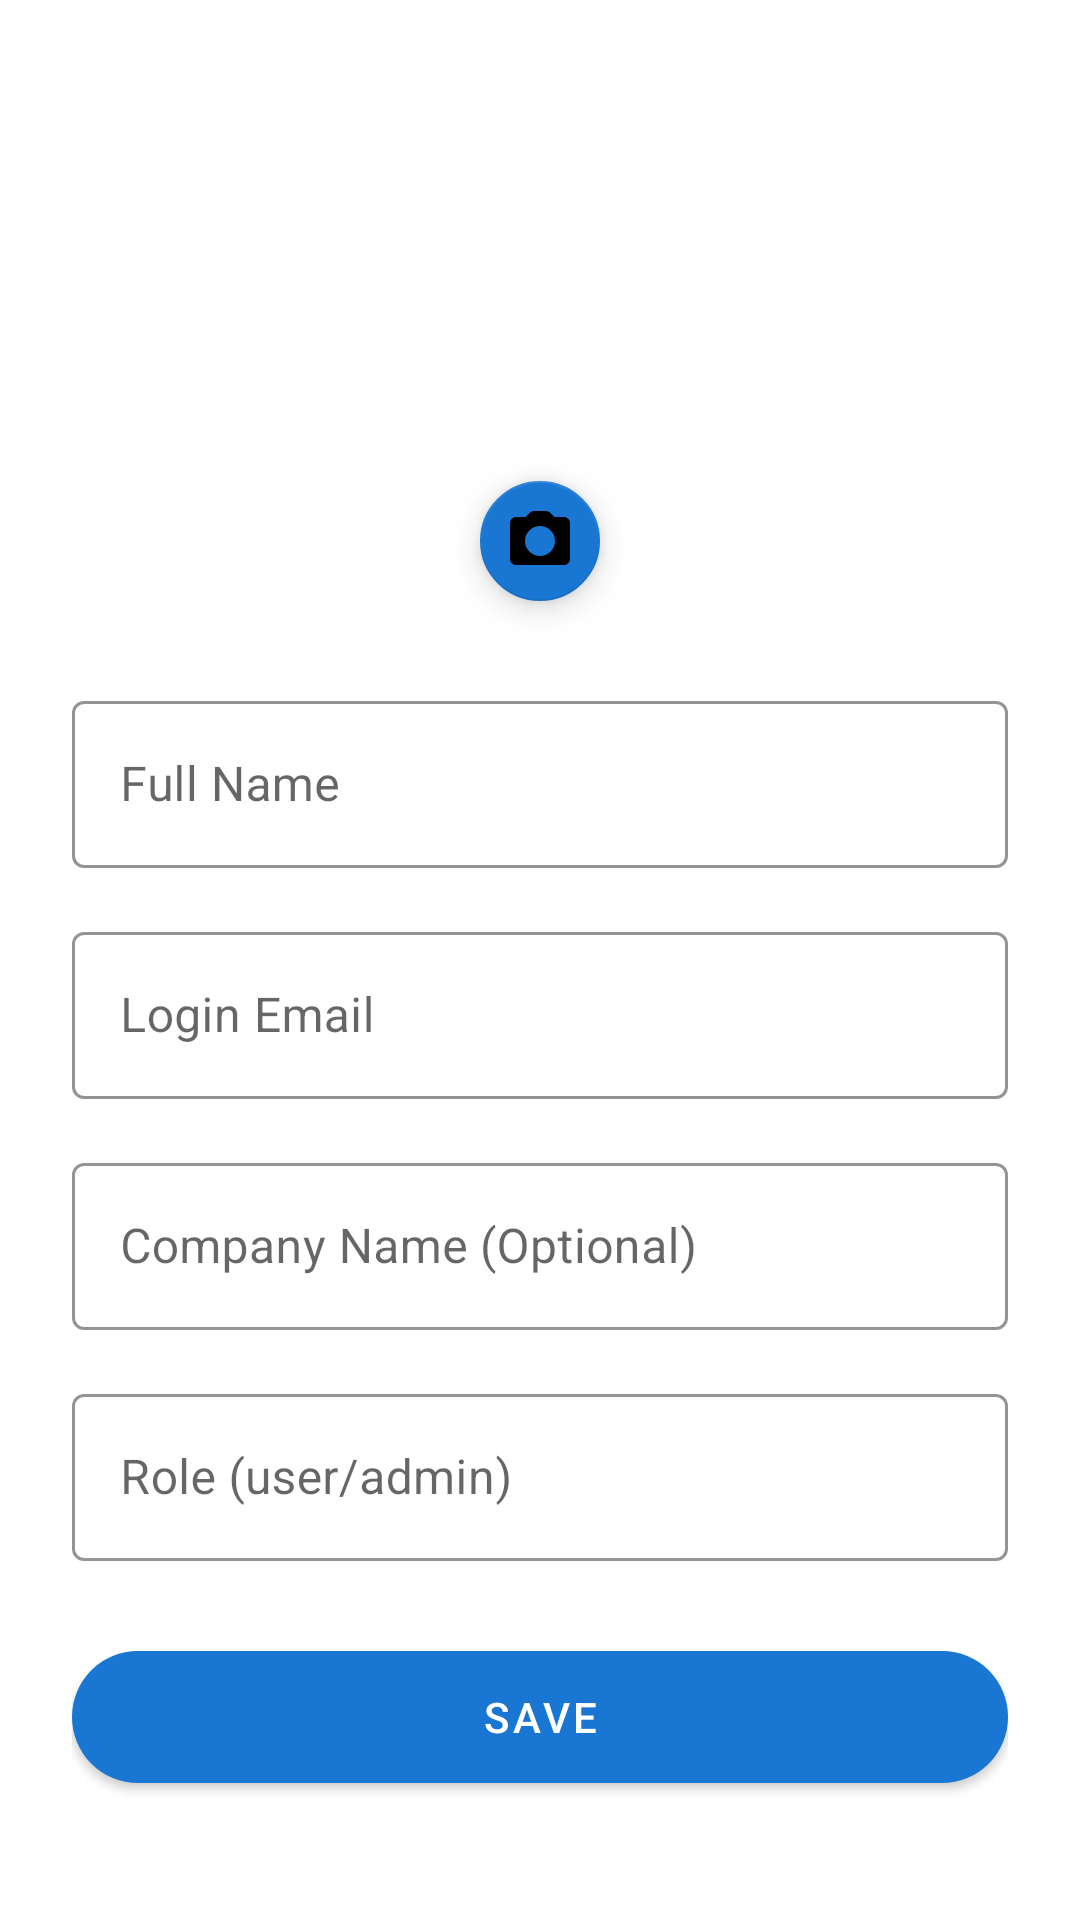

Where to tap for icons on this 1080x1920 app screen, as (x=x, y=y):
camera: (x=540, y=542)
